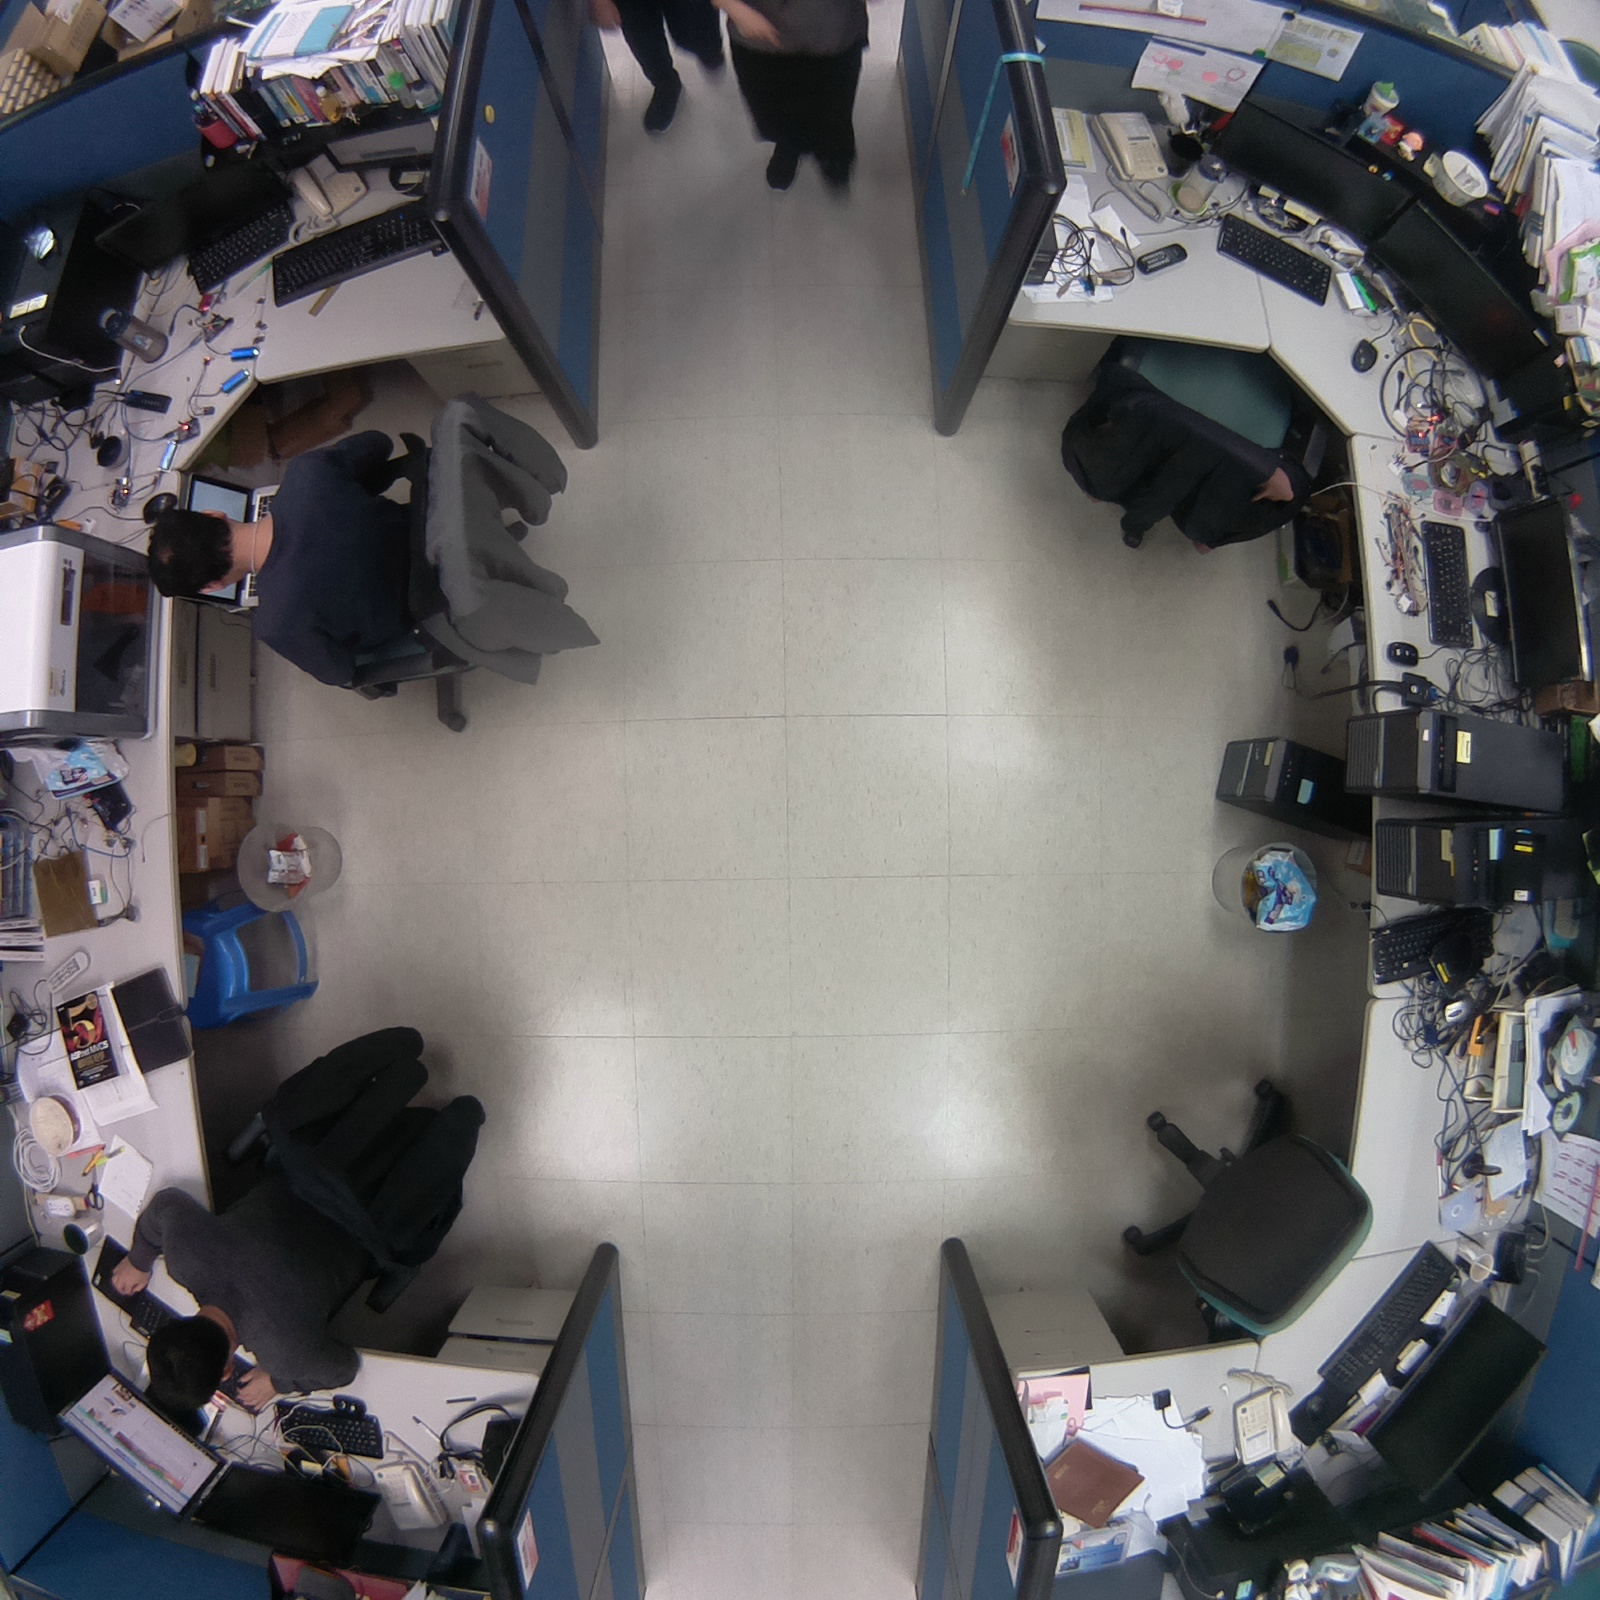chair: (1103, 1062, 1392, 1368), (1052, 295, 1322, 568)
sitting: (84, 1007, 510, 1432), (132, 382, 604, 749)
